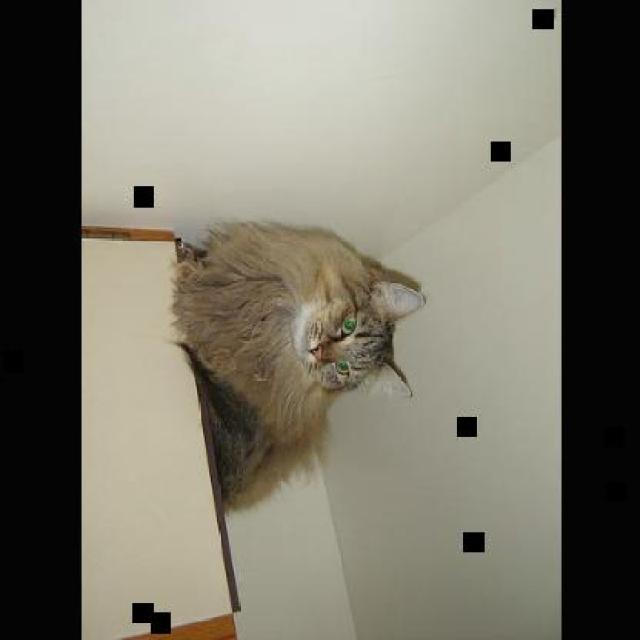unauthorized: (168, 218, 424, 512)
